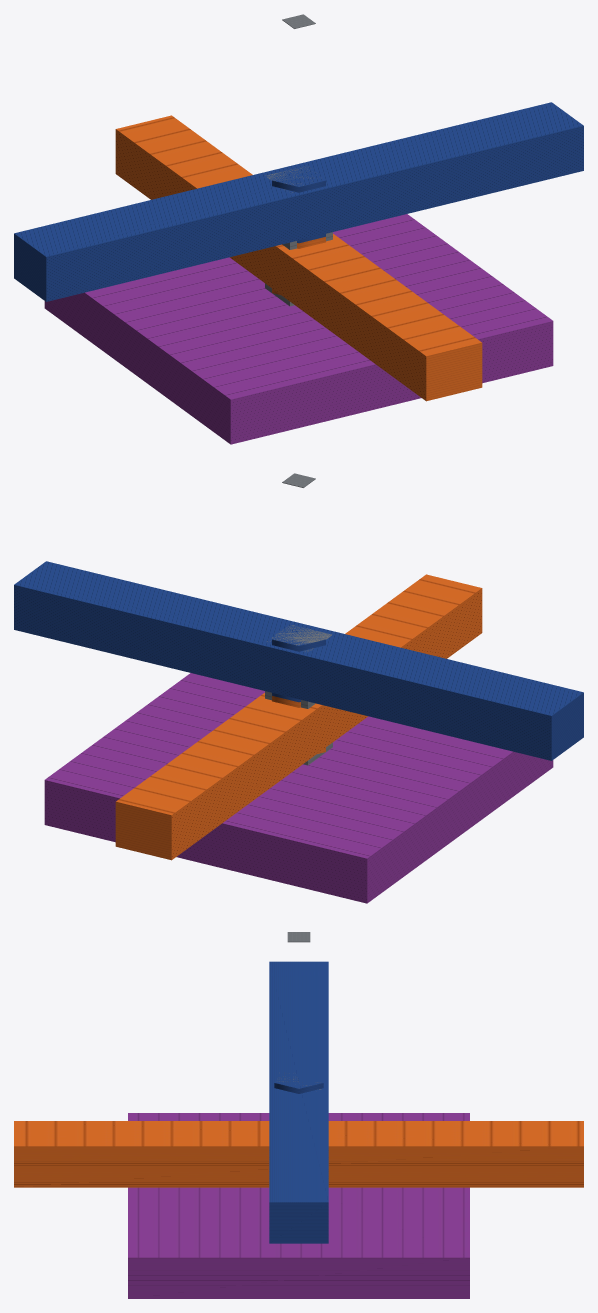
3 views of the same model, one above another, from view 1: azimuth 30°, elevation 25°; view 2: azimuth 150°, elevation 25°; view 3: azimuth 270°, elevation 25° (orthographic). The views are drawn at different scales.
Parts seen in each view (by area): view 1: node_component_11110_05_03190_001_03_metro_line5_station, node_component_11110_05_03190_001_01_metro_line1_tube, node_component_11110_05_03190_001_02_metro_line3_tube; view 2: node_component_11110_05_03190_001_03_metro_line5_station, node_component_11110_05_03190_001_01_metro_line1_tube, node_component_11110_05_03190_001_02_metro_line3_tube; view 3: node_component_11110_05_03190_001_03_metro_line5_station, node_component_11110_05_03190_001_02_metro_line3_tube, node_component_11110_05_03190_001_01_metro_line1_tube.
Boxes of the visible parts, x1,y1,x2,y2 form: node_component_11110_05_03190_001_03_metro_line5_station: (44,166,553,444); node_component_11110_05_03190_001_01_metro_line1_tube: (14,14,583,301); node_component_11110_05_03190_001_02_metro_line3_tube: (115,115,482,401); node_component_11110_05_03190_001_03_metro_line5_station: (44,625,553,903); node_component_11110_05_03190_001_01_metro_line1_tube: (14,473,583,760); node_component_11110_05_03190_001_02_metro_line3_tube: (115,574,482,860); node_component_11110_05_03190_001_03_metro_line5_station: (128,1078,469,1298); node_component_11110_05_03190_001_02_metro_line3_tube: (14,1121,583,1187); node_component_11110_05_03190_001_01_metro_line1_tube: (269,932,328,1243).
Size of the model in its own units: 50 by 28.05 by 50.
Materials: 4 (4 with a texture image).
